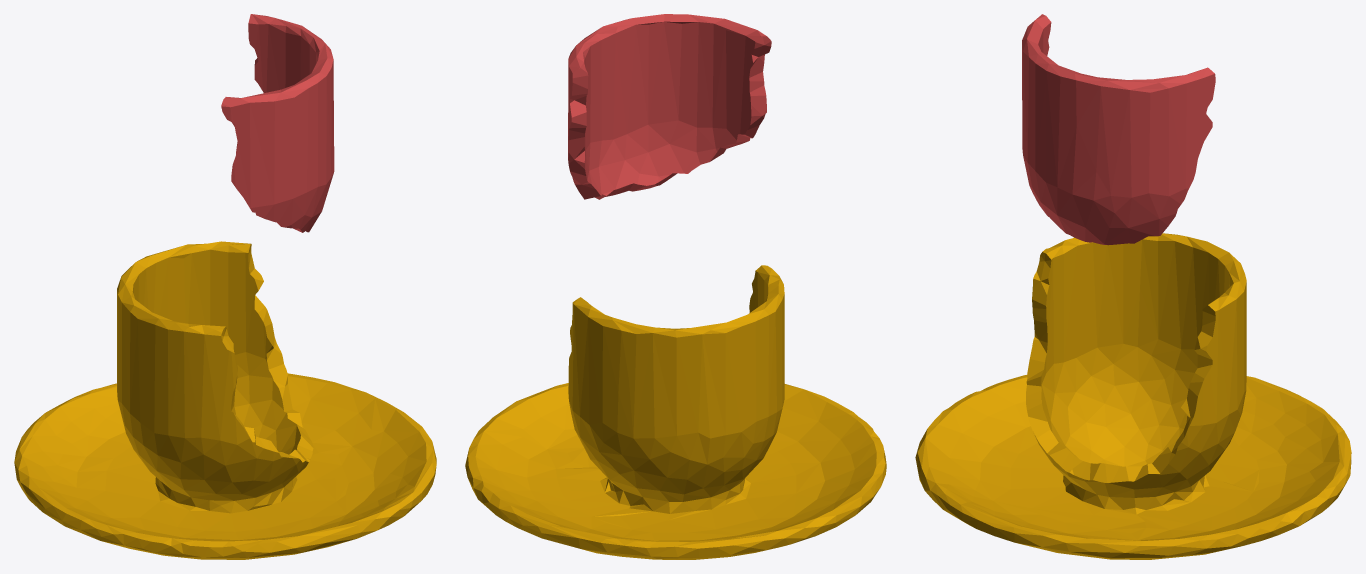
Rendered from fractured_22_2pcs_transformed.glb.
The picture shows the model from 3 angles, left to right: view 1: azimuth 30°, elevation 25°; view 2: azimuth 150°, elevation 25°; view 3: azimuth 270°, elevation 25°; orthographic projection. The views are drawn at different scales.
Visible parts, largest first — view 1: piece_0.obj, piece_1.obj; view 2: piece_0.obj, piece_1.obj; view 3: piece_0.obj, piece_1.obj.
Part boxes in pixels (box(x1,y1,x2,y2)): piece_0.obj: box(14, 241, 436, 559); piece_1.obj: box(221, 14, 334, 232); piece_0.obj: box(465, 265, 886, 559); piece_1.obj: box(568, 14, 771, 199); piece_0.obj: box(915, 233, 1351, 559); piece_1.obj: box(1022, 14, 1215, 245).
Bounding box in the file's own units: 1 × 1.17 × 0.9972.
